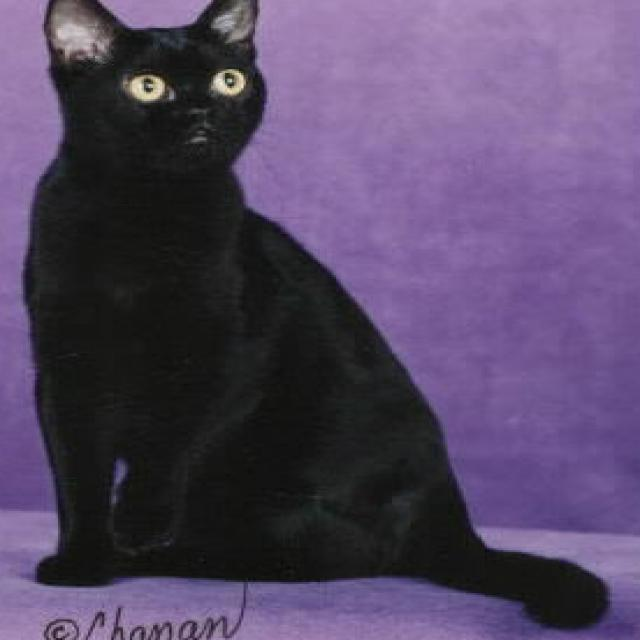Bombay: (19, 0, 612, 633)
